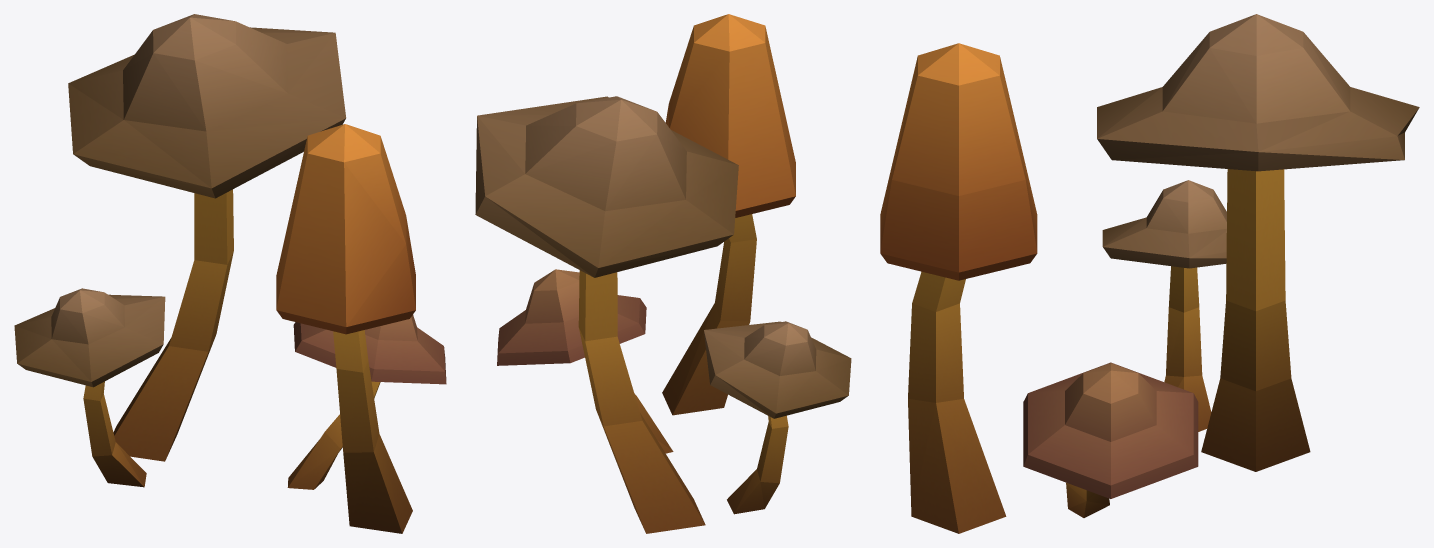
The model's file is ZLP_Mushroom_A_13.FBX.
3 views of the same model, side by side, from view 1: azimuth 30°, elevation 25°; view 2: azimuth 150°, elevation 25°; view 3: azimuth 270°, elevation 25° (orthographic). The views are drawn at different scales.
Parts seen in each view (by area): view 1: ZLP_Mushroom_A_13; view 2: ZLP_Mushroom_A_13; view 3: ZLP_Mushroom_A_13.
Boxes of the visible parts, left/top/right/bottom form: ZLP_Mushroom_A_13: left=14, top=14, right=446, bottom=533; ZLP_Mushroom_A_13: left=475, top=14, right=851, bottom=533; ZLP_Mushroom_A_13: left=880, top=14, right=1419, bottom=533.
Size of the model in its own units: 68.75 by 70.34 by 72.69.
